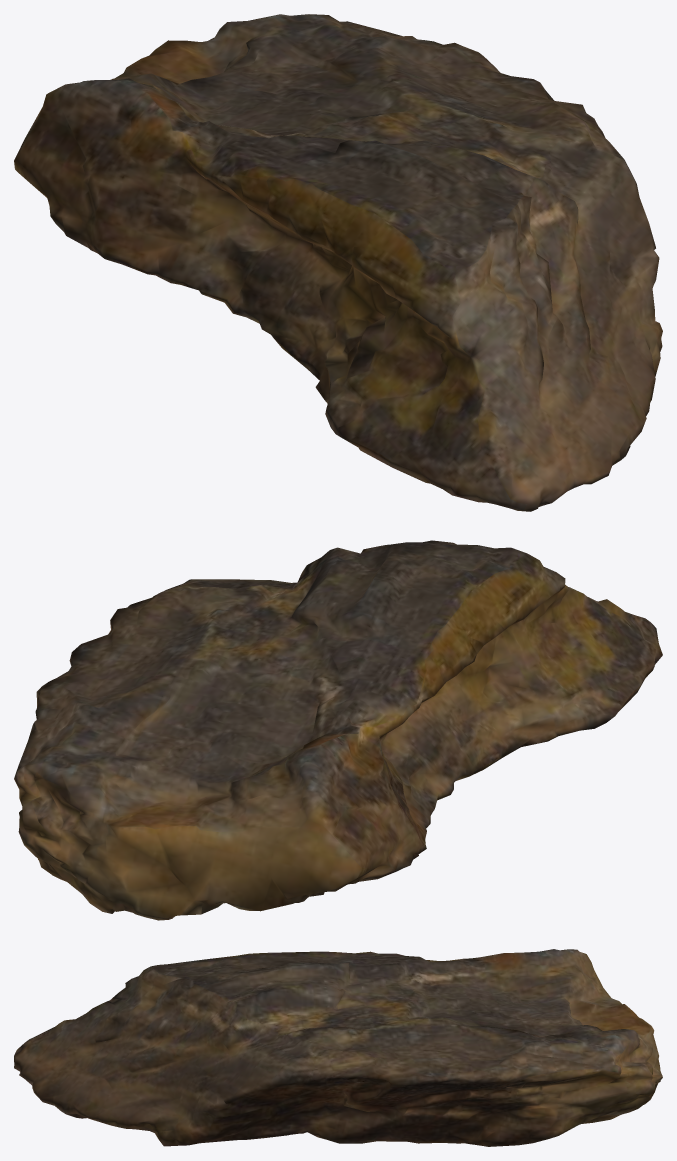
The model's file is rock_09_wood.glb.
3 views of the same model, one above another, from view 1: azimuth 30°, elevation 25°; view 2: azimuth 150°, elevation 25°; view 3: azimuth 270°, elevation 25° (orthographic). The views are drawn at different scales.
Visible parts, largest first — view 1: rock_09_LOD0; view 2: rock_09_LOD0; view 3: rock_09_LOD0.
Part boxes in pixels (x1,y1,x2,y2): rock_09_LOD0: (14, 14, 662, 511); rock_09_LOD0: (14, 540, 662, 920); rock_09_LOD0: (14, 949, 662, 1146).
Size of the model in its own units: 0.074 by 0.0328 by 0.1446.
1 material, 1 textured.
